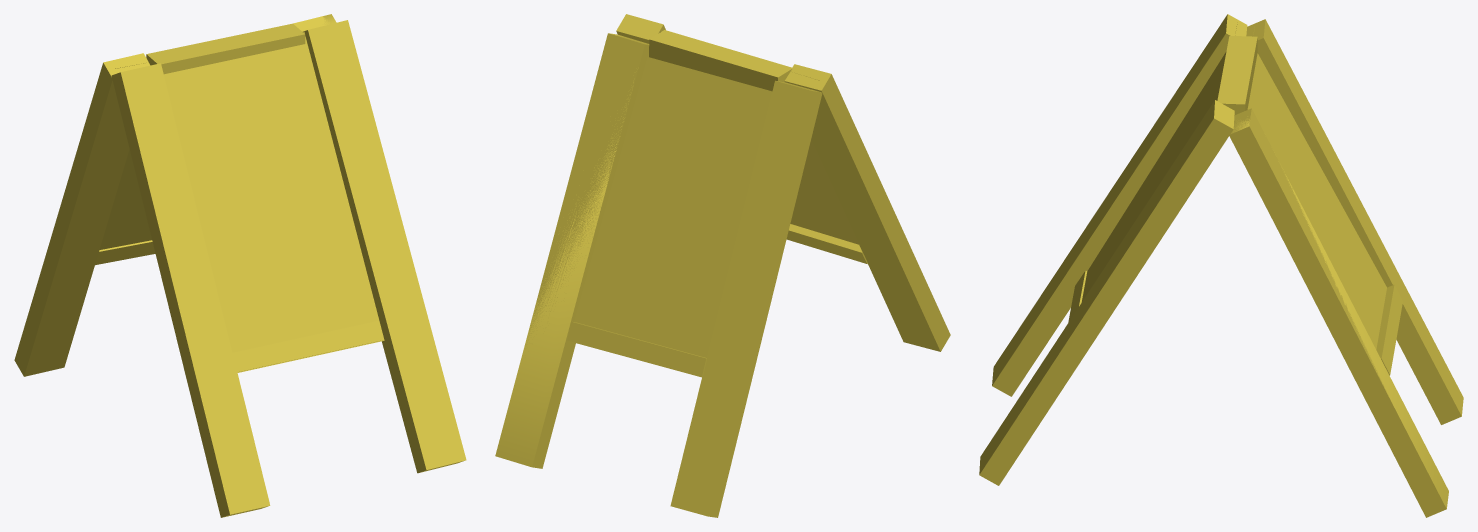
The model's file is Pizarra menu1.glb.
3 renders of one model, left to right at view 1: azimuth 30°, elevation 25°; view 2: azimuth 150°, elevation 25°; view 3: azimuth 270°, elevation 25°, orthographic. The views are drawn at different scales.
Parts seen in each view (by area): view 1: Plano.002, Cubo.012, Cubo.014, Cubo.015, Cubo.002, Cubo.013, Plano, Cubo.003; view 2: Plano, Cubo.012, Cubo.004, Cubo.014, Cubo.002, Plano.002, Cubo.003, Cubo.013; view 3: Cubo.012, Cubo.014, Cubo.004, Plano, Cubo.015, Plano.002, Cubo.002, Cubo.003.
Boxes of the visible parts, x1=… form: Plano.002: x1=164, y1=32, x2=384, y2=372; Cubo.012: x1=14, y1=53, x2=269, y2=516; Cubo.014: x1=303, y1=14, x2=466, y2=473; Cubo.015: x1=111, y1=63, x2=269, y2=517; Cubo.002: x1=146, y1=23, x2=305, y2=74; Cubo.013: x1=232, y1=320, x2=383, y2=372; Plano: x1=99, y1=63, x2=151, y2=249; Cubo.003: x1=95, y1=240, x2=155, y2=265; Plano: x1=569, y1=53, x2=810, y2=376; Cubo.012: x1=670, y1=64, x2=950, y2=517; Cubo.004: x1=525, y1=33, x2=649, y2=468; Cubo.014: x1=495, y1=14, x2=665, y2=467; Cubo.002: x1=649, y1=30, x2=791, y2=91; Plano.002: x1=660, y1=32, x2=858, y2=244; Cubo.003: x1=567, y1=321, x2=706, y2=377; Cubo.013: x1=786, y1=224, x2=867, y2=263; Cubo.012: x1=992, y1=14, x2=1463, y2=424; Cubo.014: x1=979, y1=100, x2=1448, y2=509; Cubo.004: x1=1229, y1=108, x2=1446, y2=517; Plano: x1=1247, y1=27, x2=1386, y2=349; Cubo.015: x1=993, y1=14, x2=1230, y2=392; Plano.002: x1=1082, y1=24, x2=1237, y2=301; Cubo.002: x1=1217, y1=36, x2=1257, y2=115; Cubo.003: x1=1376, y1=284, x2=1402, y2=375.
Size of the model in its own units: 1.25 by 1.89 by 2.12.
